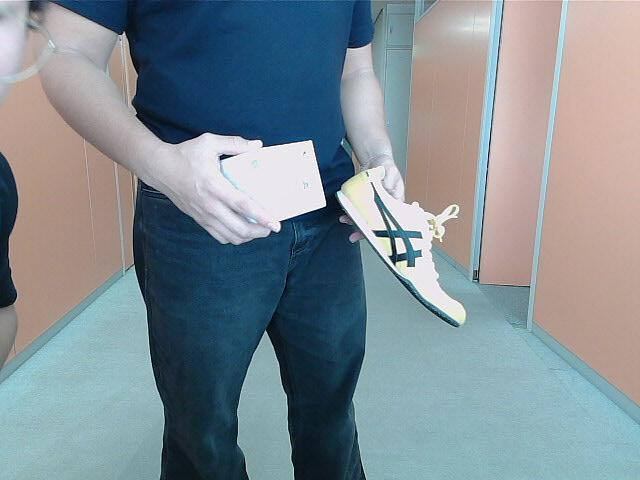Blind_box: (205, 138, 331, 232)
Shoes: (336, 162, 469, 328)
